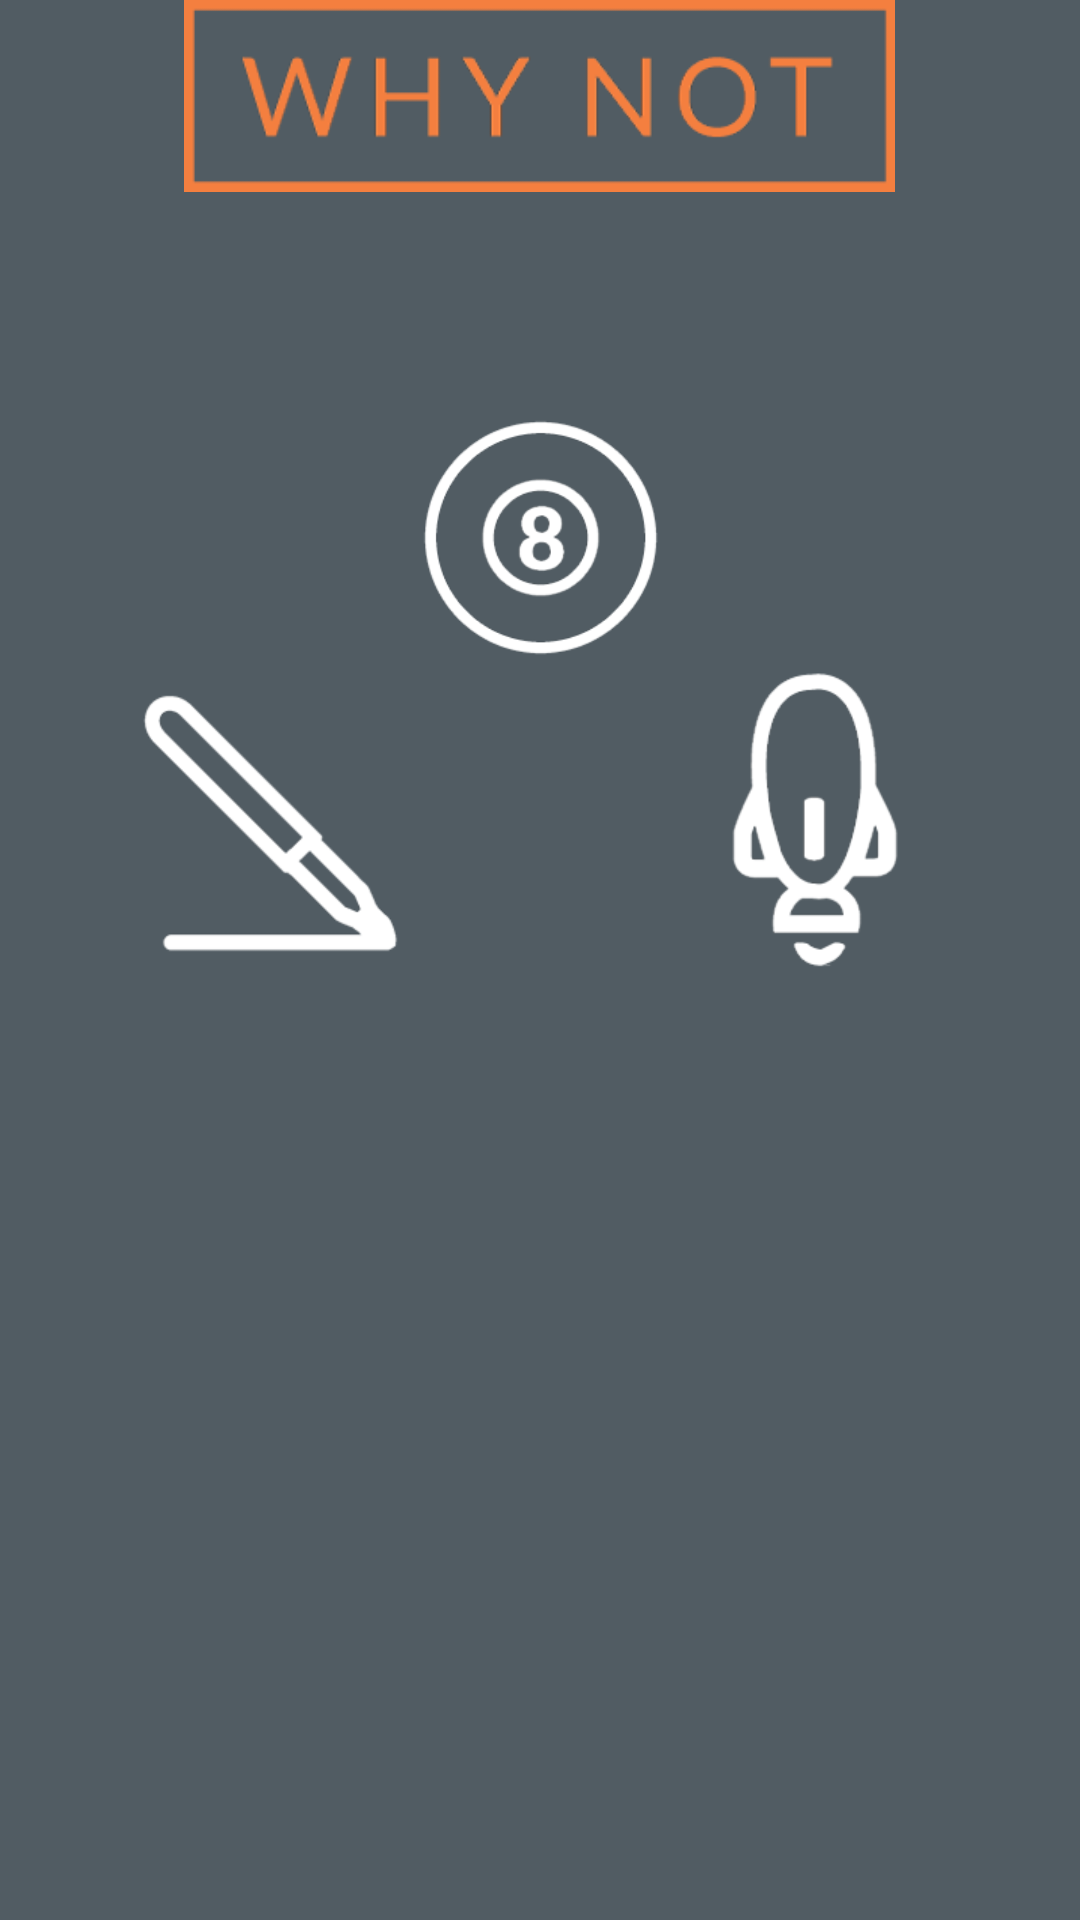

Screen size 1080 × 1920. Icon name, then its box in pixels as [x1,y1,x2,y2]:
home eight: [424,421,657,654]
home pen: [144,696,397,951]
home rocket: [733,673,897,966]
